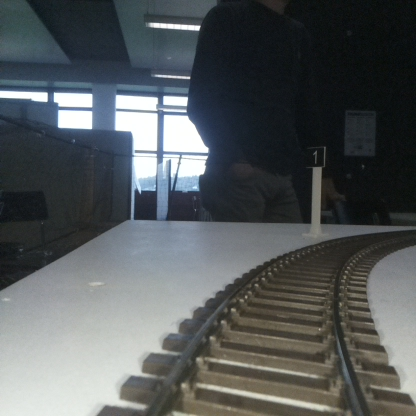black-info-1: (306, 146, 324, 234)
